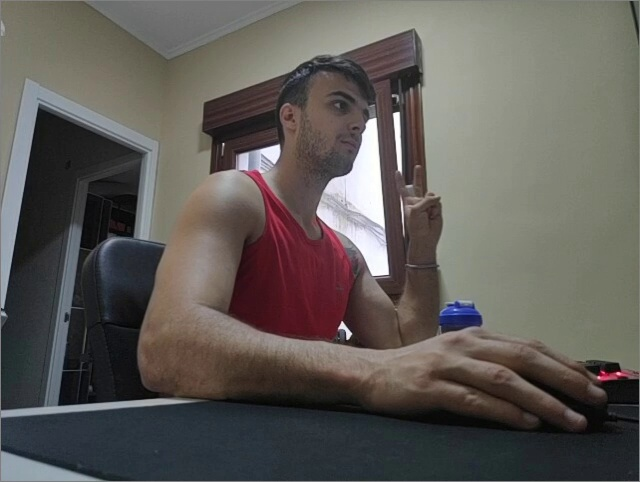Peace: (393, 162, 443, 244)
